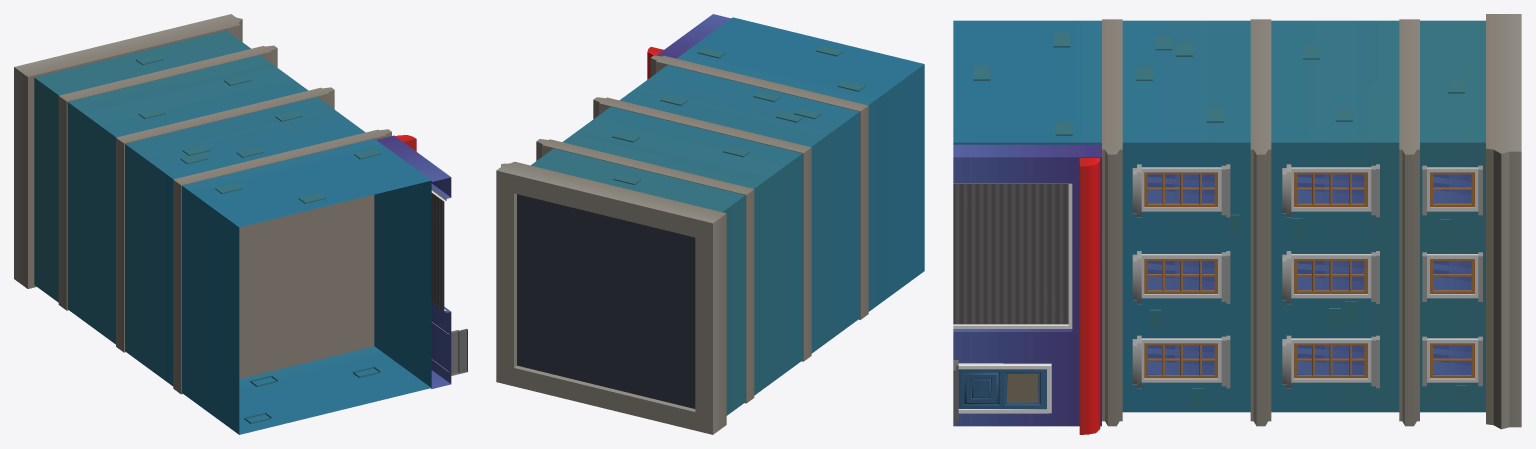
Rendered from Building_19_1_E.fbx.
The picture shows the model from 3 angles, left to right: view 1: azimuth 30°, elevation 25°; view 2: azimuth 150°, elevation 25°; view 3: azimuth 270°, elevation 25°; orthographic projection. The views are drawn at different scales.
Parts seen in each view (by area): view 1: Building_19_1_E; view 2: Building_19_1_E; view 3: Building_19_1_E.
Boxes of the visible parts, x1=… form: Building_19_1_E: x1=14, y1=14, x2=467, y2=434; Building_19_1_E: x1=496, y1=14, x2=924, y2=434; Building_19_1_E: x1=953, y1=14, x2=1521, y2=434.
Bounding box in the file's own units: 774 × 667 × 1247.
